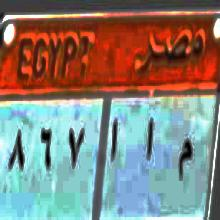6: (37, 123, 54, 174)
7: (66, 124, 86, 177)
8: (7, 128, 26, 177)
alif: (143, 115, 156, 169), (106, 118, 119, 165)
meem: (175, 126, 193, 189)
